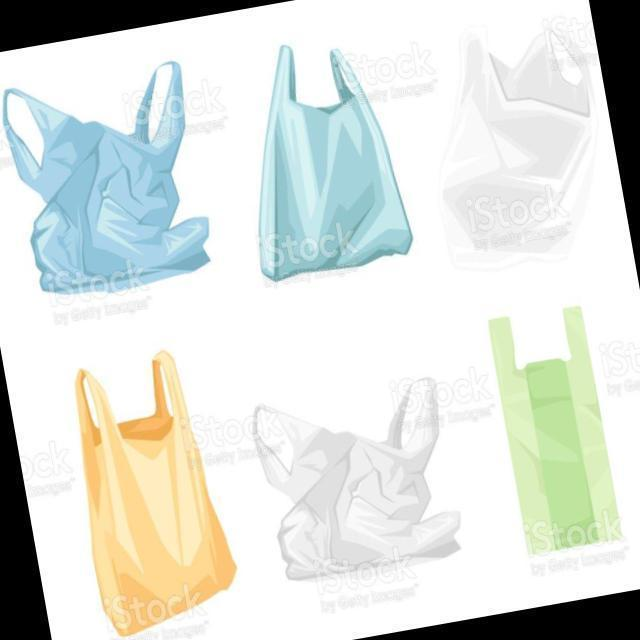Plastic_Bag: (0, 48, 225, 317)
